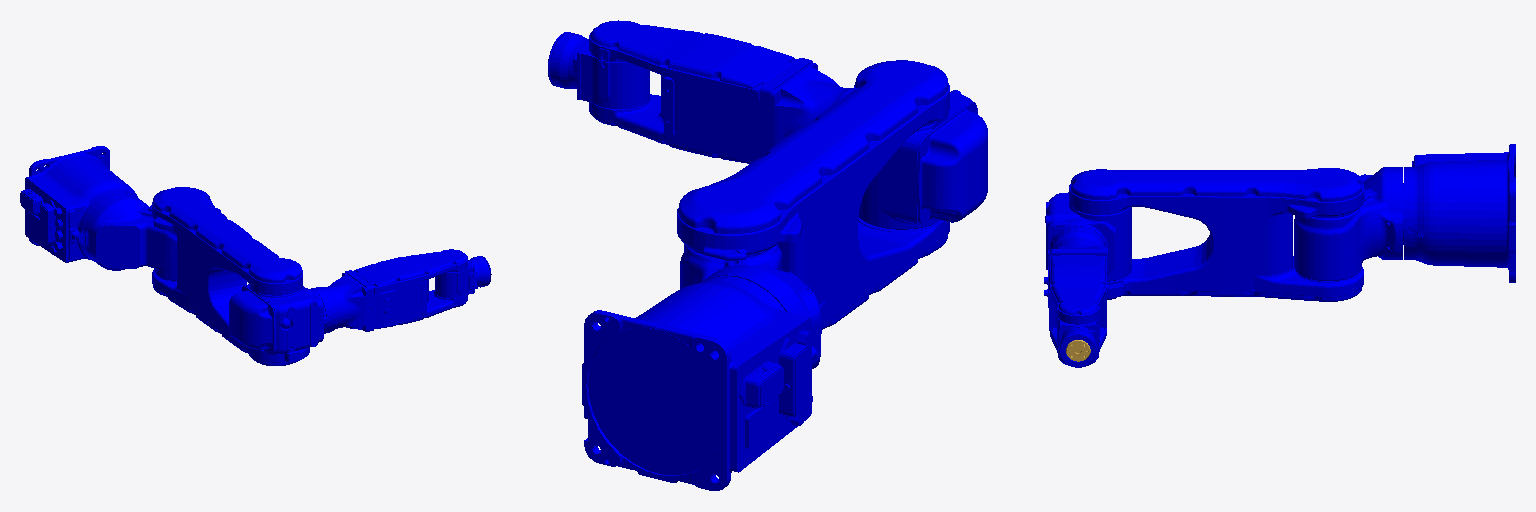
The robot description file, URDF, robot "MH5-URDF":
<?xml version="1.0" encoding="utf-8"?>
<!-- This URDF was automatically created by SolidWorks to URDF Exporter! Originally created by [author] ([email redacted]) 
     Commit Version: 1.5.1-0-g916b5db  Build Version: 1.5.7152.31018
     For more information, please see http://wiki.ros.org/sw_urdf_exporter -->
<robot
  name="MH5-URDF">
  <link
    name="base_link">
    <inertial>
      <origin
        xyz="-0.0110883019646767 0.000227788926138211 0.103150384989412"
        rpy="0 0 0" />
      <mass
        value="6.38321181493355" />
      <inertia
        ixx="0.0372965121749265"
        ixy="0.000165084088990519"
        ixz="-0.00045851126079573"
        iyy="0.0424283210142111"
        iyz="3.89226790922586E-05"
        izz="0.0312521171681315" />
    </inertial>
    <visual>
      <origin
        xyz="0 0 0"
        rpy="0 0 0" />
      <geometry>
        <mesh
          filename="package://MH5-URDF/meshes/base_link.STL" />
      </geometry>
      <material
        name="">
        <color
          rgba="0 0 1 1" />
      </material>
    </visual>
    <collision>
      <origin
        xyz="0 0 0"
        rpy="0 0 0" />
      <geometry>
        <mesh
          filename="package://MH5-URDF/meshes/base_link.STL" />
      </geometry>
    </collision>
  </link>
  <link
    name="link_s">
    <inertial>
      <origin
        xyz="0.00202948665386829 0.04176384850382 0.0808100983343647"
        rpy="0 0 0" />
      <mass
        value="3.06563145753173" />
      <inertia
        ixx="0.0174224038397614"
        ixy="-0.000319255372656743"
        ixz="-0.000351939431144338"
        iyy="0.012163240851605"
        iyz="-0.00550804303531142"
        izz="0.0129222149793393" />
    </inertial>
    <visual>
      <origin
        xyz="0 0 0"
        rpy="0 0 0" />
      <geometry>
        <mesh
          filename="package://MH5-URDF/meshes/link_s.STL" />
      </geometry>
      <material
        name="">
        <color
          rgba="0 0 1 1" />
      </material>
    </visual>
    <collision>
      <origin
        xyz="0 0 0"
        rpy="0 0 0" />
      <geometry>
        <mesh
          filename="package://MH5-URDF/meshes/link_s.STL" />
      </geometry>
    </collision>
  </link>
  <joint
    name="joint_s"
    type="revolute">
    <origin
      xyz="0 -0.199 0"
      rpy="1.5708 1.5708 0" />
    <parent
      link="base_link" />
    <child
      link="link_s" />
    <axis
      xyz="0 0 1" />
    <limit
      lower="-2.9671"
      upper="2.9671"
      effort="0"
      velocity="0" />
  </joint>
  <link
    name="link_l">
    <inertial>
      <origin
        xyz="0.000647316551126979 -0.00408188732835905 0.18535518260864"
        rpy="0 0 0" />
      <mass
        value="1.36278409878616" />
      <inertia
        ixx="0.0317559117871832"
        ixy="-0.000134908986237019"
        ixz="-0.000678776996235032"
        iyy="0.038117122383231"
        iyz="-0.000233953246022673"
        izz="0.0103349890416148" />
    </inertial>
    <visual>
      <origin
        xyz="0 0 0"
        rpy="0 0 0" />
      <geometry>
        <mesh
          filename="package://MH5-URDF/meshes/link_l.STL" />
      </geometry>
      <material
        name="">
        <color
          rgba="0 0 1 1" />
      </material>
    </visual>
    <collision>
      <origin
        xyz="0 0 0"
        rpy="0 0 0" />
      <geometry>
        <mesh
          filename="package://MH5-URDF/meshes/link_l.STL" />
      </geometry>
    </collision>
  </link>
  <joint
    name="joint_l"
    type="revolute">
    <origin
      xyz="0 0.088 0.131"
      rpy="0 0 0" />
    <parent
      link="link_s" />
    <child
      link="link_l" />
    <axis
      xyz="1 0 0" />
    <limit
      lower="-1.1345"
      upper="2.618"
      effort="0"
      velocity="0" />
  </joint>
  <link
    name="link_u">
    <inertial>
      <origin
        xyz="0.00116035645793911 -0.01041623965395 0.0190677964746967"
        rpy="0 0 0" />
      <mass
        value="2.53028013023471" />
      <inertia
        ixx="0.00860406610948572"
        ixy="-3.07058925892111E-05"
        ixz="3.19825365950595E-05"
        iyy="0.0068460116094622"
        iyz="-0.000743674699895537"
        izz="0.00762537326813849" />
    </inertial>
    <visual>
      <origin
        xyz="0 0 0"
        rpy="0 0 0" />
      <geometry>
        <mesh
          filename="package://MH5-URDF/meshes/link_u.STL" />
      </geometry>
      <material
        name="">
        <color
          rgba="0 0 1 1" />
      </material>
    </visual>
    <collision>
      <origin
        xyz="0 0 0"
        rpy="0 0 0" />
      <geometry>
        <mesh
          filename="package://MH5-URDF/meshes/link_u.STL" />
      </geometry>
    </collision>
  </link>
  <joint
    name="joint_u"
    type="revolute">
    <origin
      xyz="0 0 0.4"
      rpy="0 0 0" />
    <parent
      link="link_l" />
    <child
      link="link_u" />
    <axis
      xyz="1 0 0" />
    <limit
      lower="-2.4086"
      upper="4.4506"
      effort="0"
      velocity="0" />
  </joint>
  <link
    name="link_r">
    <inertial>
      <origin
        xyz="0.00704134923216865 0.167370198187689 0.000104623301099172"
        rpy="0 0 0" />
      <mass
        value="0.993705238857949" />
      <inertia
        ixx="0.0105281527461912"
        ixy="-0.000452680853064833"
        ixz="7.95336810316176E-06"
        iyy="0.00235359322695917"
        iyz="-7.6422999361452E-06"
        izz="0.0108820827309093" />
    </inertial>
    <visual>
      <origin
        xyz="0 0 0"
        rpy="0 0 0" />
      <geometry>
        <mesh
          filename="package://MH5-URDF/meshes/link_r.STL" />
      </geometry>
      <material
        name="">
        <color
          rgba="0 0 1 1" />
      </material>
    </visual>
    <collision>
      <origin
        xyz="0 0 0"
        rpy="0 0 0" />
      <geometry>
        <mesh
          filename="package://MH5-URDF/meshes/link_r.STL" />
      </geometry>
    </collision>
  </link>
  <joint
    name="joint_r"
    type="revolute">
    <origin
      xyz="0 0.0715 0.04"
      rpy="0 0 0" />
    <parent
      link="link_u" />
    <child
      link="link_r" />
    <axis
      xyz="0 1 0" />
    <limit
      lower="-3.3161"
      upper="3.3161"
      effort="0"
      velocity="0" />
  </joint>
  <link
    name="link_b">
    <inertial>
      <origin
        xyz="-3.31240579540506E-05 0.0192296605326606 8.25170175109413E-05"
        rpy="0 0 0" />
      <mass
        value="0.389442932956022" />
      <inertia
        ixx="0.000273042376978114"
        ixy="-7.84729964815532E-08"
        ixz="-3.45484102632551E-07"
        iyy="0.000242697433183168"
        iyz="-6.00305737513743E-07"
        izz="0.000255615504986072" />
    </inertial>
    <visual>
      <origin
        xyz="0 0 0"
        rpy="0 0 0" />
      <geometry>
        <mesh
          filename="package://MH5-URDF/meshes/link_b.STL" />
      </geometry>
      <material
        name="">
        <color
          rgba="0 0 1 1" />
      </material>
    </visual>
    <collision>
      <origin
        xyz="0 0 0"
        rpy="0 0 0" />
      <geometry>
        <mesh
          filename="package://MH5-URDF/meshes/link_b.STL" />
      </geometry>
    </collision>
  </link>
  <joint
    name="joint_b"
    type="revolute">
    <origin
      xyz="0 0.3335 0"
      rpy="0 0 0" />
    <parent
      link="link_r" />
    <child
      link="link_b" />
    <axis
      xyz="1 0 0" />
    <limit
      lower="-2.3562"
      upper="2.3562"
      effort="0"
      velocity="0" />
  </joint>
  <link
    name="link_t">
    <inertial>
      <origin
        xyz="-3.5221941675433E-16 0.0140262568274812 5.00761677482142E-05"
        rpy="0 0 0" />
      <mass
        value="0.0432292203100036" />
      <inertia
        ixx="8.23256012321425E-06"
        ixy="2.28075910136324E-21"
        ixz="7.60854499472136E-22"
        iyy="1.07676881315043E-05"
        iyz="-2.48378278463169E-08"
        izz="8.26676339636709E-06" />
    </inertial>
    <visual>
      <origin
        xyz="0 0 0"
        rpy="0 0 0" />
      <geometry>
        <mesh
          filename="package://MH5-URDF/meshes/link_t.STL" />
      </geometry>
      <material
        name="">
        <color
          rgba="0.866666666666667 0.701960784313725 0.345098039215686 1" />
      </material>
    </visual>
    <collision>
      <origin
        xyz="0 0 0"
        rpy="0 0 0" />
      <geometry>
        <mesh
          filename="package://MH5-URDF/meshes/link_t.STL" />
      </geometry>
    </collision>
  </link>
  <joint
    name="joint_t"
    type="continuous">
    <origin
      xyz="0 0.051 0"
      rpy="0 0 0" />
    <parent
      link="link_b" />
    <child
      link="link_t" />
    <axis
      xyz="0 1 0" />
    <limit
      lower="-6.28319"
      upper="6.28319"
      effort="0"
      velocity="0" />
  </joint>
</robot>

--- Render facts (derived) ---
The picture shows the robot from 3 angles, left to right: view 1: azimuth 30°, elevation 25°; view 2: azimuth 150°, elevation 25°; view 3: azimuth 270°, elevation 25°; orthographic projection.
Model MH5-URDF with 7 links and 6 joints (5 revolute, 1 continuous), rooted at base_link, posed every joint at zero.
Links seen in each view (by area): view 1: link_l, link_r, base_link, link_s, link_u, link_b; view 2: base_link, link_l, link_r, link_u, link_b, link_s; view 3: link_l, base_link, link_s, link_r, link_u, link_b.
Boxes of the visible links, x1,y1,x2,y2 form: link_l: (148, 187, 309, 365); link_r: (311, 249, 467, 333); base_link: (20, 146, 137, 262); link_s: (76, 193, 176, 280); link_u: (229, 284, 326, 354); link_b: (435, 256, 491, 298); base_link: (582, 276, 812, 490); link_l: (677, 60, 949, 333); link_r: (589, 20, 853, 163); link_u: (859, 90, 987, 229); link_b: (548, 32, 649, 108); link_s: (680, 244, 820, 368); link_l: (1069, 168, 1366, 301); base_link: (1403, 144, 1515, 282); link_s: (1294, 167, 1402, 280); link_r: (1044, 226, 1107, 365); link_u: (1045, 192, 1131, 281); link_b: (1057, 318, 1099, 367).
Size in the robot's own frame: 0.703 by 0.8296 by 0.22 metres.
Meshes: 7 distinct files referenced, 7 mesh visuals loaded (7 binary STL).